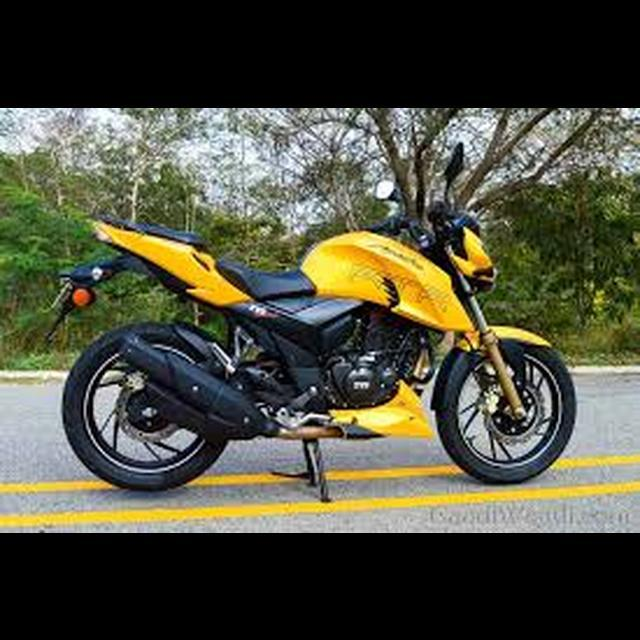motorcycle: (37, 137, 582, 507)
